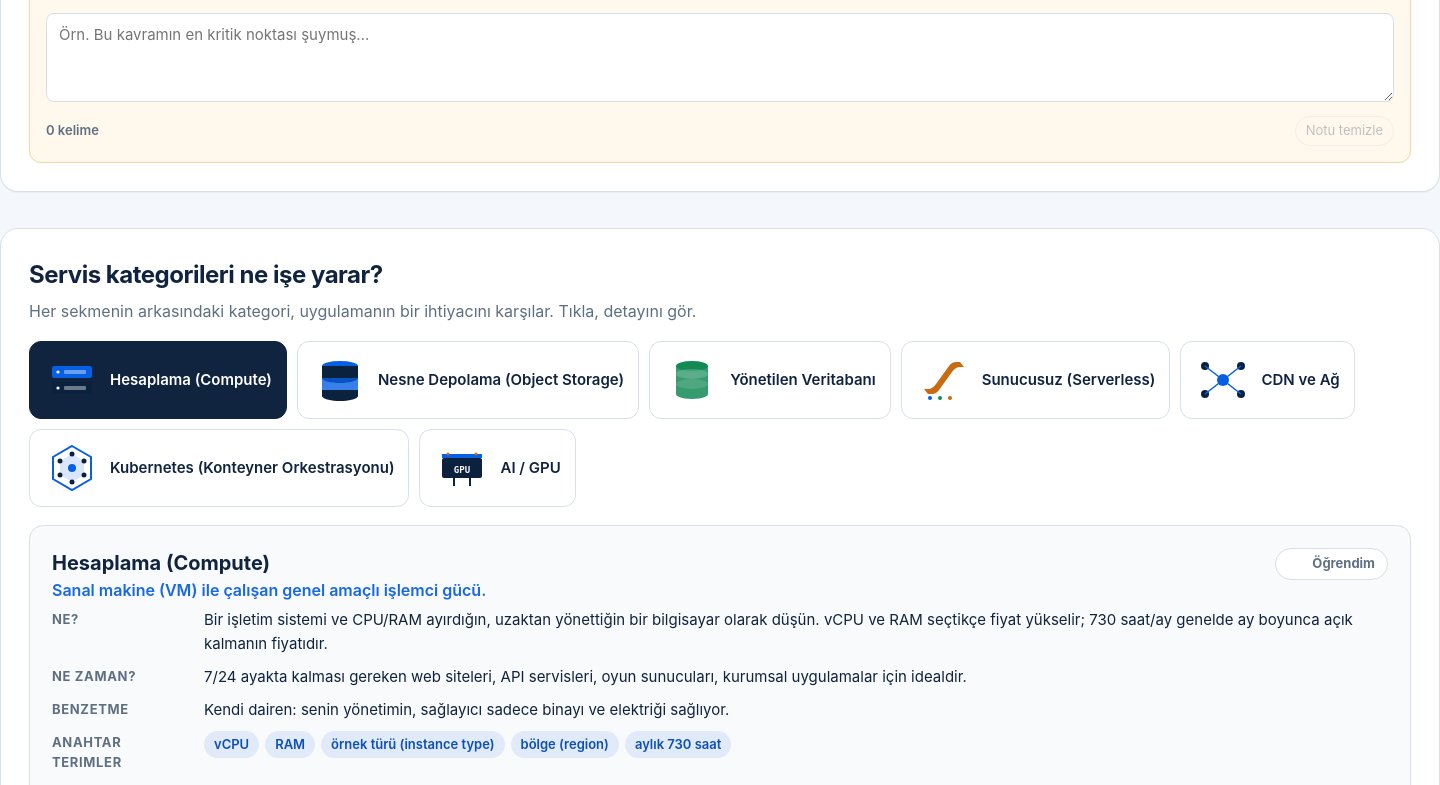
Scenario: Education › switches the active service category tab and updates the detail
(page scrolled)
Step 1. Click the tab "Nesne Depolama (Object Storage)" → click(468, 380), box left=297, top=341, right=639, bottom=419
(page scrolled)
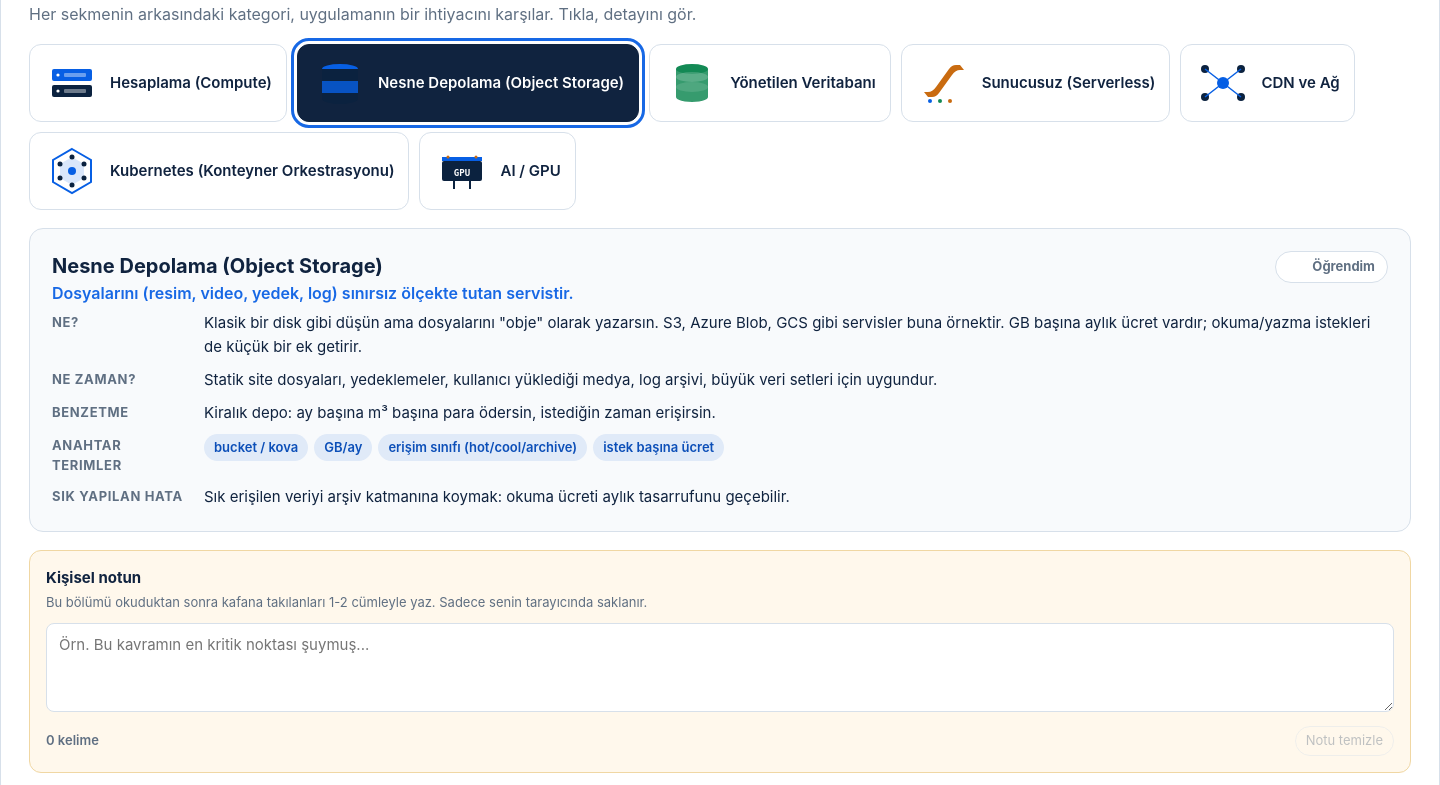
Check: the panel shows "Benzetme", box left=52, top=404, right=129, bottom=420
Check: the panel shows "Nesne Depolama", box left=52, top=254, right=383, bottom=278
